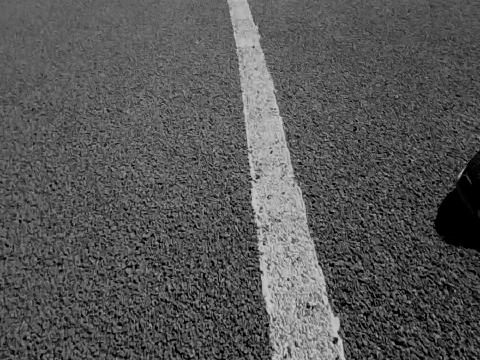Lines: (226, 0, 346, 360)
